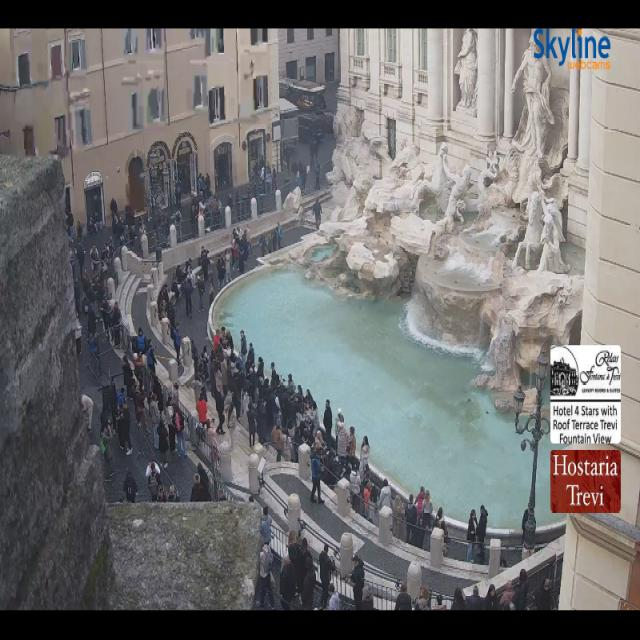person: (249, 375, 309, 435), (280, 382, 323, 449), (278, 379, 323, 443), (277, 374, 319, 439), (274, 381, 315, 447), (224, 350, 250, 427), (258, 363, 287, 430), (230, 355, 255, 429), (76, 269, 105, 332), (280, 387, 311, 444), (231, 357, 255, 429), (157, 264, 184, 325), (131, 355, 150, 435), (221, 338, 240, 417), (268, 377, 295, 431), (264, 381, 292, 433), (83, 271, 106, 333), (404, 488, 427, 548), (124, 352, 143, 424), (230, 355, 245, 425), (158, 273, 179, 323), (135, 370, 151, 435), (319, 545, 335, 608), (280, 555, 297, 610), (192, 343, 207, 404), (191, 463, 215, 501), (260, 545, 274, 608), (328, 452, 351, 490), (100, 419, 114, 479), (296, 538, 311, 593), (80, 268, 98, 312), (117, 400, 131, 455), (434, 507, 450, 555), (116, 206, 134, 248), (79, 268, 95, 314), (112, 388, 124, 449), (301, 558, 315, 610), (351, 555, 364, 610), (191, 341, 203, 399), (173, 408, 187, 457), (224, 392, 236, 449), (414, 487, 425, 548), (311, 449, 323, 504), (513, 569, 529, 610), (404, 494, 417, 544), (212, 328, 230, 364), (245, 361, 259, 407), (434, 507, 449, 549), (476, 505, 487, 562), (336, 408, 347, 465), (209, 351, 223, 395), (214, 383, 226, 434), (149, 394, 160, 449), (91, 246, 108, 281), (156, 419, 168, 468), (146, 459, 160, 501), (308, 134, 321, 179), (234, 227, 251, 261), (323, 452, 339, 488), (466, 510, 477, 562), (100, 246, 115, 284), (242, 183, 261, 213), (109, 377, 119, 433), (192, 366, 206, 405), (535, 578, 552, 610), (392, 494, 404, 539), (100, 297, 112, 342), (191, 474, 210, 501), (310, 400, 323, 439), (80, 395, 93, 433), (257, 399, 268, 443), (285, 531, 298, 568), (152, 375, 164, 415), (349, 470, 360, 513), (168, 401, 177, 453), (123, 356, 134, 398), (197, 462, 211, 495), (288, 381, 308, 404), (395, 582, 411, 610), (123, 470, 137, 502), (171, 264, 183, 301), (422, 490, 433, 530), (272, 421, 283, 461), (197, 390, 207, 433), (112, 215, 123, 254), (360, 436, 370, 478), (466, 586, 483, 610), (112, 302, 121, 347), (500, 581, 515, 608), (378, 479, 391, 510), (253, 160, 264, 196), (309, 134, 322, 164), (148, 196, 159, 231), (414, 586, 430, 610), (248, 399, 256, 447), (261, 506, 271, 544), (124, 205, 135, 239), (348, 427, 357, 468), (484, 584, 498, 610), (361, 586, 376, 610), (220, 358, 229, 398), (166, 295, 177, 327), (74, 277, 83, 316), (451, 587, 466, 610), (324, 400, 332, 443), (183, 278, 192, 316), (172, 324, 181, 362), (117, 387, 128, 418), (100, 403, 110, 437), (146, 458, 160, 482), (88, 333, 99, 362), (283, 149, 295, 175), (243, 228, 253, 259), (184, 259, 195, 287), (216, 255, 225, 289), (134, 352, 143, 386), (201, 344, 209, 382), (90, 245, 100, 275), (191, 198, 199, 235), (76, 242, 85, 274), (197, 276, 205, 311), (75, 315, 82, 355), (415, 487, 424, 518), (328, 585, 339, 610), (312, 135, 321, 165), (364, 481, 371, 519), (240, 330, 247, 368), (157, 284, 169, 306), (147, 341, 155, 374), (521, 509, 528, 545), (88, 215, 101, 234), (224, 249, 231, 284), (136, 328, 146, 352), (313, 200, 321, 230), (284, 435, 293, 461), (314, 430, 323, 455), (88, 306, 96, 334), (212, 193, 223, 213), (107, 236, 115, 261), (156, 484, 167, 502), (434, 594, 446, 610), (206, 419, 215, 440), (265, 166, 272, 193), (138, 220, 146, 243), (214, 329, 221, 355), (175, 180, 181, 210), (168, 485, 179, 501), (247, 343, 255, 365), (301, 166, 308, 191), (232, 227, 241, 246), (209, 278, 215, 306), (259, 235, 267, 256), (309, 139, 315, 166), (226, 330, 233, 353), (276, 223, 282, 249), (292, 161, 303, 175), (110, 197, 117, 219), (304, 390, 314, 405), (288, 374, 295, 395), (257, 357, 264, 378), (239, 251, 245, 275), (272, 165, 277, 191), (260, 166, 265, 192), (205, 174, 210, 199), (199, 246, 205, 266), (227, 193, 234, 210), (272, 229, 277, 252), (500, 554, 507, 570), (295, 165, 300, 187), (315, 163, 319, 190), (77, 220, 82, 240), (267, 235, 272, 253), (236, 191, 240, 213)
